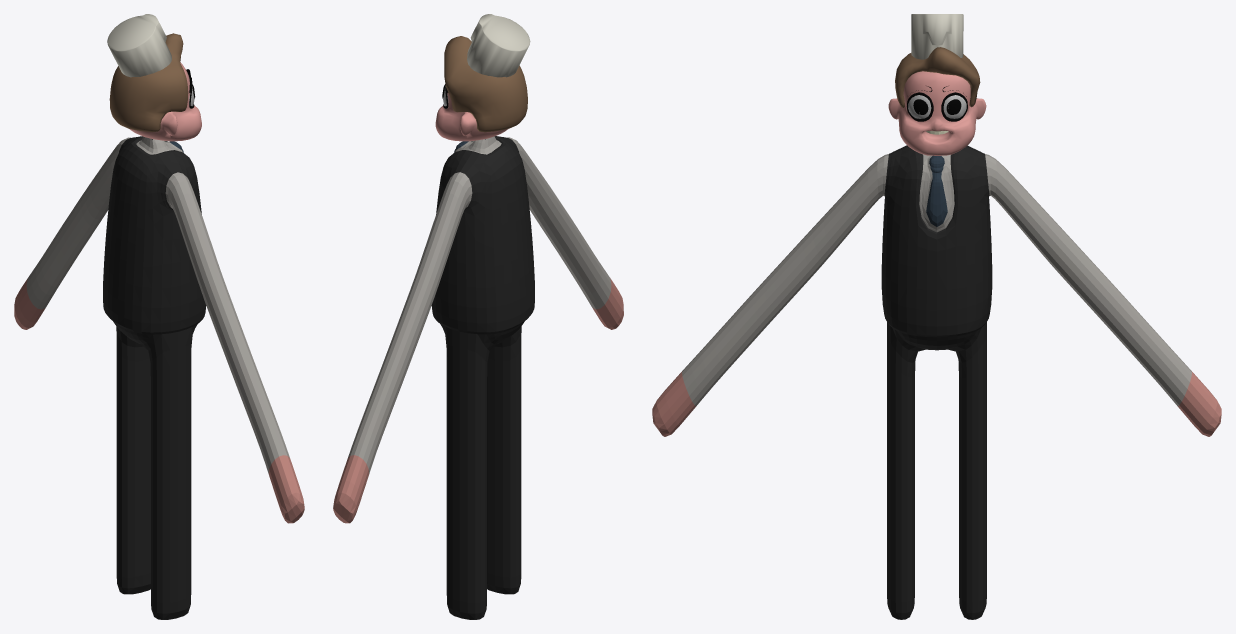
File: HellPlayer_SecondDraft.fbx
3 views of the same model, side by side, from view 1: azimuth 30°, elevation 25°; view 2: azimuth 150°, elevation 25°; view 3: azimuth 270°, elevation 25° (orthographic). The views are drawn at different scales.
Parts seen in each view (by area): view 1: shang, xia.001; view 2: shang, xia.001; view 3: shang, xia.001.
Boxes of the visible parts, x1=… form: shang: x1=14, y1=14, x2=304, y2=523; xia.001: x1=113, y1=321, x2=197, y2=619; shang: x1=333, y1=14, x2=623, y2=523; xia.001: x1=440, y1=321, x2=524, y2=619; shang: x1=652, y1=14, x2=1221, y2=436; xia.001: x1=887, y1=322, x2=986, y2=619.
Size of the model in its own units: 48.64 by 314 by 269.
